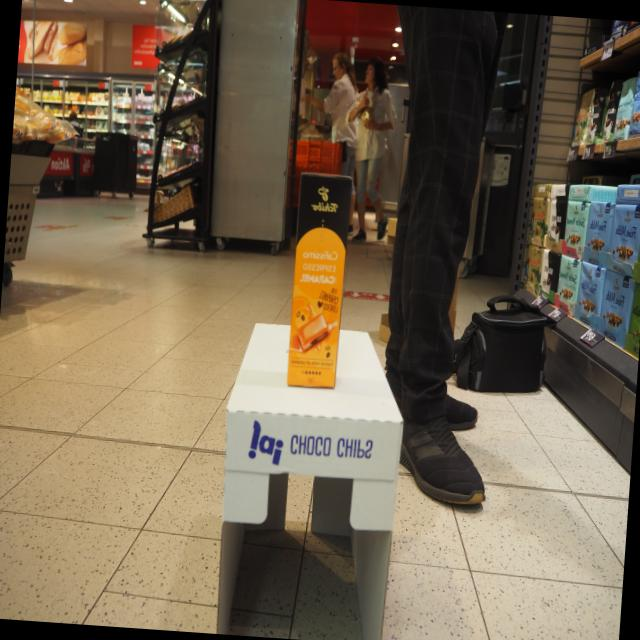Simo Es Caramel: (285, 170, 354, 391)
